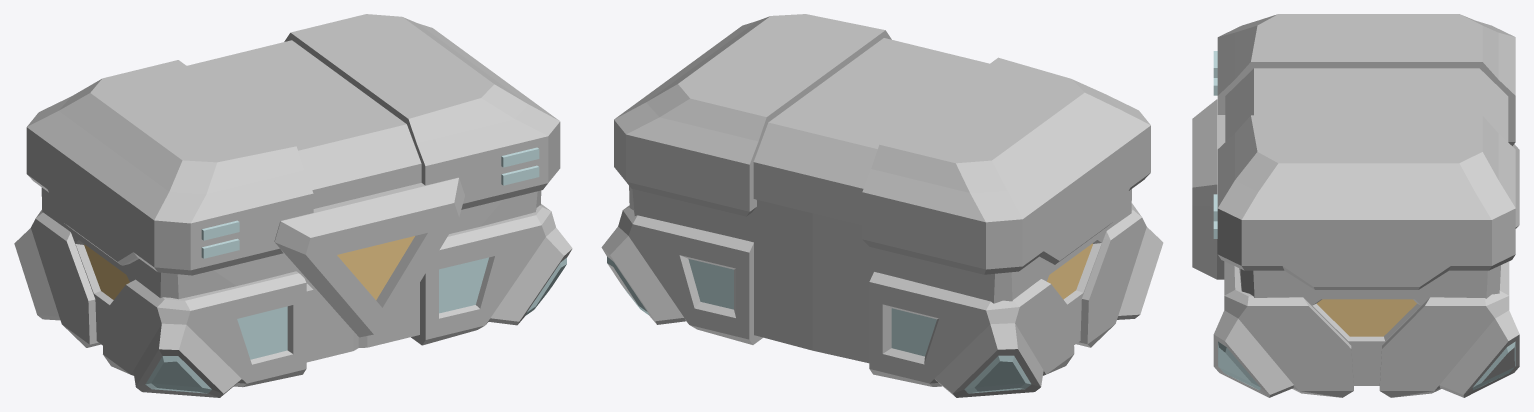
The model's file is SM_Sci_FiWeapon_Chest.fbx.
3 renders of one model, left to right at view 1: azimuth 30°, elevation 25°; view 2: azimuth 150°, elevation 25°; view 3: azimuth 270°, elevation 25°, orthographic. The views are drawn at different scales.
Visible parts, largest first — view 1: SM_Sci_FiWeapon_Chest; view 2: SM_Sci_FiWeapon_Chest; view 3: SM_Sci_FiWeapon_Chest.
Boxes of the visible parts, x1,y1,x2,y2 form: SM_Sci_FiWeapon_Chest: [14, 14, 572, 397]; SM_Sci_FiWeapon_Chest: [601, 14, 1163, 397]; SM_Sci_FiWeapon_Chest: [1192, 14, 1519, 397].
Size of the model in its own units: 65.11 by 33.11 by 45.51.
